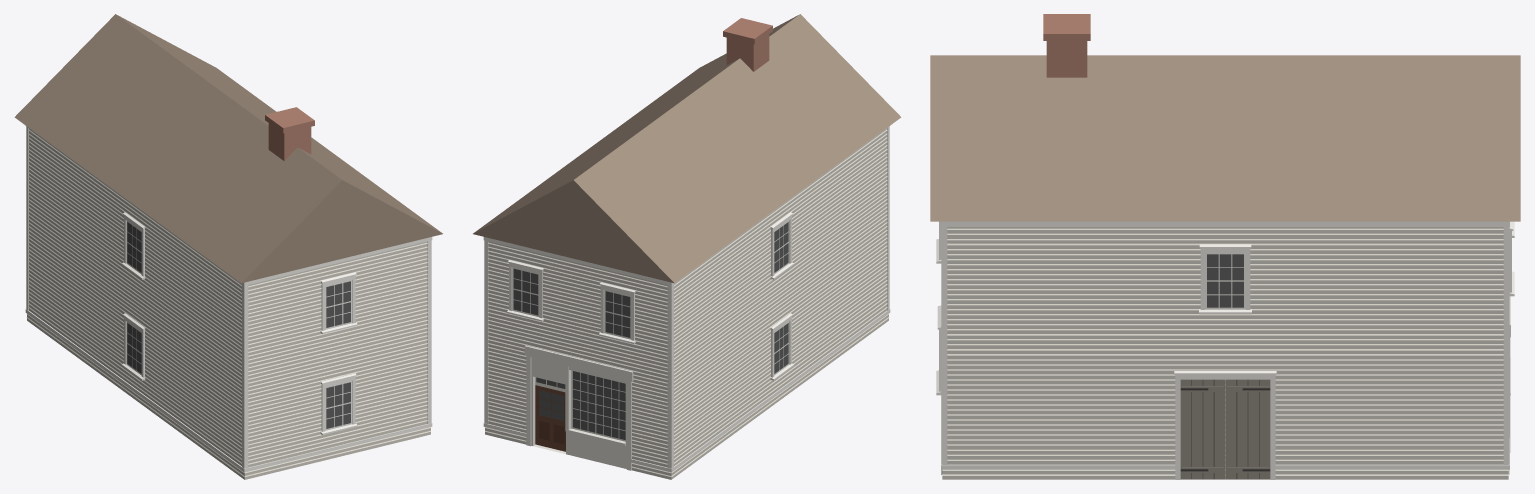
File: recon_1835_core_c3_049__inferred_1835.glb
The picture shows the model from 3 angles, left to right: view 1: azimuth 30°, elevation 25°; view 2: azimuth 150°, elevation 25°; view 3: azimuth 270°, elevation 25°; orthographic projection. The views are drawn at different scales.
Visible parts, largest first — view 1: recon_1835_core_c3_049__inferred_1835; view 2: recon_1835_core_c3_049__inferred_1835; view 3: recon_1835_core_c3_049__inferred_1835.
Boxes of the visible parts, x1,y1,x2,y2 form: recon_1835_core_c3_049__inferred_1835: [14, 14, 442, 479]; recon_1835_core_c3_049__inferred_1835: [473, 14, 901, 479]; recon_1835_core_c3_049__inferred_1835: [930, 14, 1520, 479].
Bounding box in the file's own units: 6.26 × 9.01 × 12.16.
